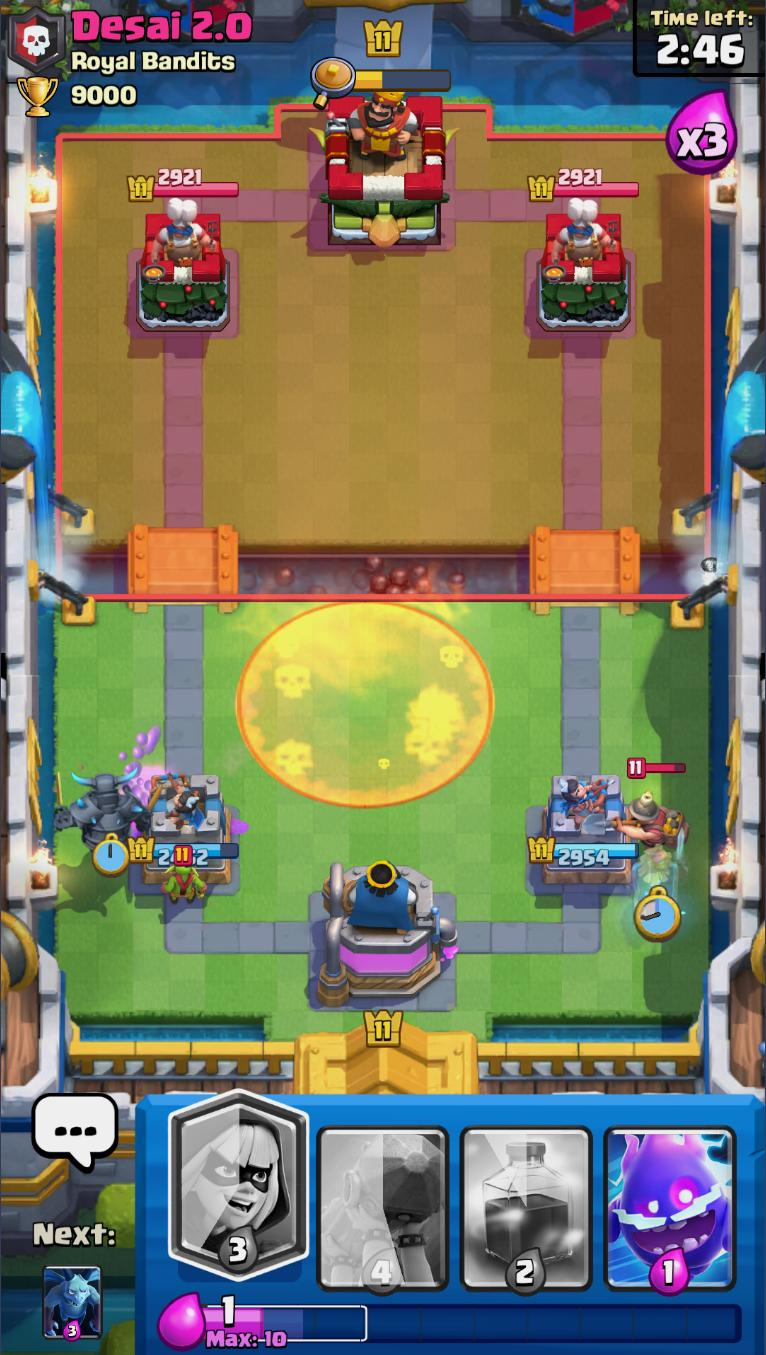BanditDeck: (167, 1095, 310, 1296)
BattleRamDeck: (311, 1095, 455, 1296)
Chef: (150, 198, 220, 267), (551, 198, 618, 266)
ElectroSpiritDeck: (599, 1094, 744, 1296)
Elixir: (203, 1295, 744, 1350)
EnemyTower: (533, 208, 631, 331), (133, 210, 229, 335)
Goblin: (161, 843, 205, 910)
KingTower: (308, 82, 456, 248)
Miner: (614, 759, 689, 850)
MinionsDeck: (41, 1264, 103, 1343)
MyKingTower: (319, 856, 458, 1009)
MyPekka: (51, 767, 160, 859)
MyPrincessTower: (125, 769, 238, 887), (528, 773, 639, 889)
MyPrincessTowerHP: (125, 836, 238, 868), (527, 837, 640, 867)
MyRoyaleGhost: (626, 830, 685, 909)
Poison: (239, 599, 493, 807)
RageDeck: (456, 1094, 598, 1295)
TowerPrincessHP: (126, 168, 239, 203), (526, 169, 639, 203)
